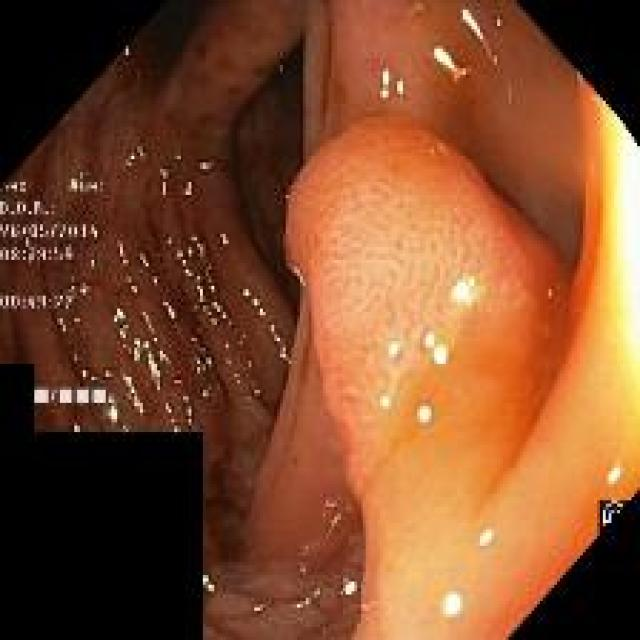Polyps: (285, 119, 640, 639)
